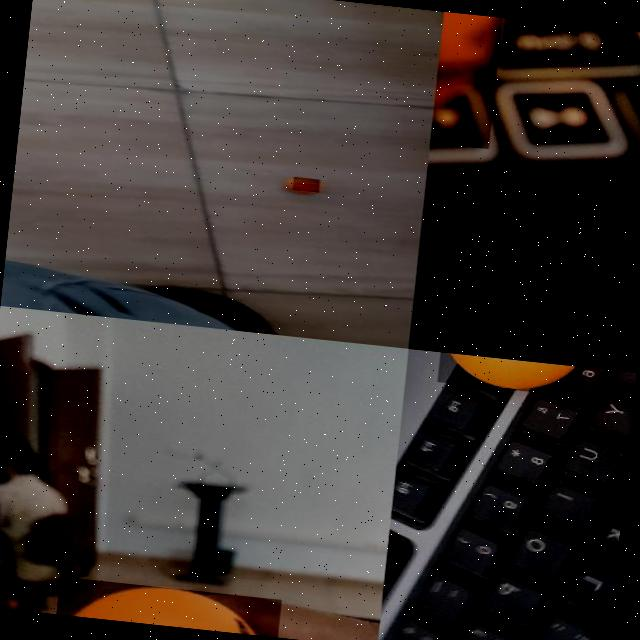ping-pong-ball: (53, 575, 282, 636), (434, 352, 582, 398), (290, 175, 319, 192)
